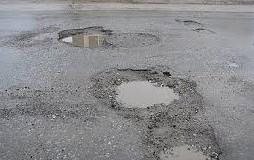pothole: (97, 69, 188, 115), (146, 112, 221, 160), (58, 24, 114, 49), (111, 33, 161, 49), (178, 19, 199, 28), (193, 27, 216, 34)
